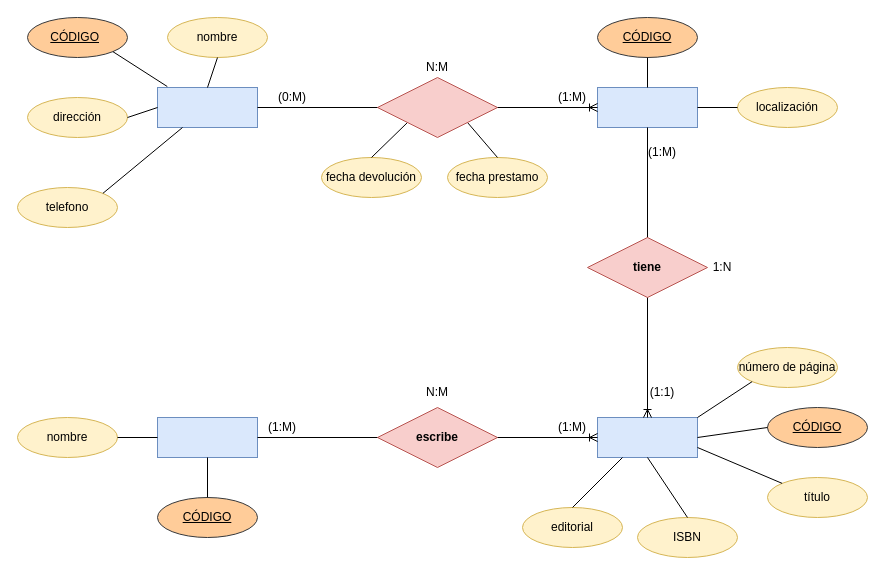
This 885x575 diagram has some shape labels left out. The shapes that lost their labels are listed below. From the top down, each one's box as (x1, y1, x2, y2) in pixels, then its label:
(156, 86, 258, 128): USUARIO
(376, 76, 498, 138): prestamo
(596, 86, 698, 128): EJEMPLAR
(156, 416, 258, 458): FICHA DE AUTOR
(596, 416, 698, 458): LIBRO
